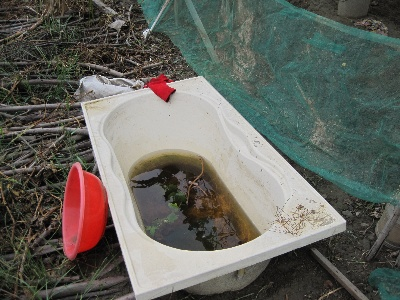bowl: (60, 162, 108, 262)
tub: (80, 76, 348, 300)
